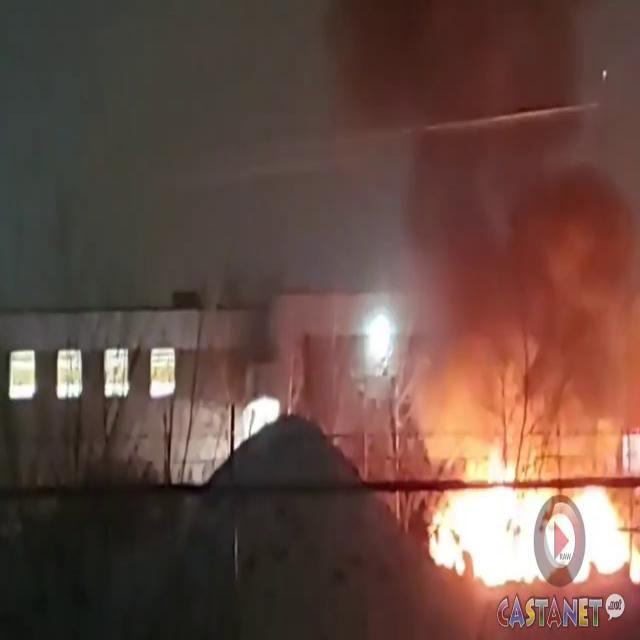Fire: (408, 432, 640, 611)
Smoke: (314, 0, 640, 407)
